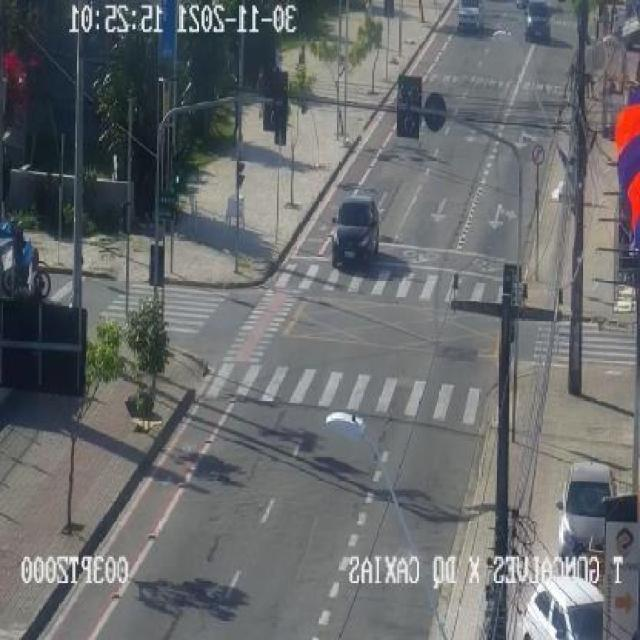Car: (328, 195, 382, 268), (520, 0, 555, 46), (453, 0, 488, 35)
